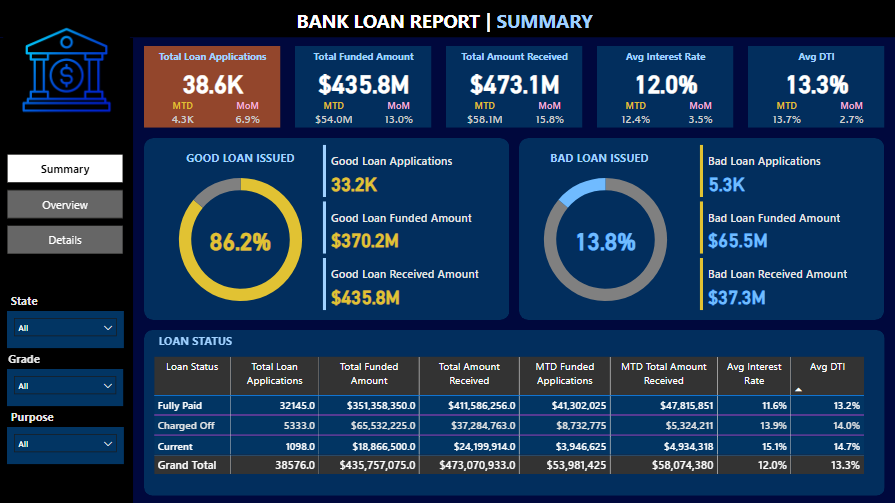

The page's visual inventory and layout, read from the dashboard file:
{"tool":"powerbi","page":{"name":"Summary","canvas":[1280,720],"ordinal":0},"visuals":[{"type":"shape","box":[206.7,66.7,195,116.7],"z":0,"group":"g1"},{"type":"shape","box":[422.5,66.7,195,116.7],"z":0,"group":"g2"},{"type":"shape","box":[638.3,66.7,195,116.7],"z":0,"group":"g3"},{"type":"shape","box":[854.2,66.7,195,116.7],"z":0,"group":"g4"},{"type":"shape","box":[1070,66.7,195,116.7],"z":0,"group":"g5"},{"type":"shape","box":[206.7,198.3,522,260],"z":0},{"type":"shape","box":[0,0,1280,55],"z":1000},{"type":"card","fields":{"Values":["bank_loan_data.Total Loan Applications"]},"box":[211.7,91.7,185,53.3],"z":1000,"group":"g1"},{"type":"card","fields":{"Values":["bank_loan_data.Total Funded Amount"]},"box":[427.5,91.7,185,53.3],"z":1000,"group":"g2"},{"type":"card","fields":{"Values":["bank_loan_data.Total Amount Received"]},"box":[643.3,91.7,185,53.3],"z":1000,"group":"g3"},{"type":"card","fields":{"Values":["bank_loan_data.Avg Interest Rate"]},"box":[859.2,91.7,185,53.3],"z":1000,"group":"g4"},{"type":"card","fields":{"Values":["bank_loan_data.Avg DTI"]},"box":[1075,91.7,185,53.3],"z":1000,"group":"g5"},{"type":"shape","box":[0,55,191.7,665],"z":2000},{"type":"textbox","box":[220,66.7,170,38.3],"z":2000,"group":"g1"},{"type":"textbox","box":[435.8,66.7,170,38.3],"z":2000,"group":"g2"},{"type":"textbox","box":[651.6,66.7,170,38.3],"z":2000,"group":"g3"},{"type":"textbox","box":[867.5,66.7,170,38.3],"z":2000,"group":"g4"},{"type":"textbox","box":[1083.3,66.7,170,38.3],"z":2000,"group":"g5"},{"type":"card","title":"MTD","fields":{"Values":["bank_loan_data.MTD Loan Applications"]},"box":[220,141.7,85,45],"z":3000,"group":"g1"},{"type":"card","title":"MTD","fields":{"Values":["bank_loan_data.MTD Funded Applications"]},"box":[435.8,141.7,85,45],"z":3000,"group":"g2"},{"type":"card","title":"MTD","fields":{"Values":["bank_loan_data.MTD Total Amount Received"]},"box":[651.6,141.7,85,45],"z":3000,"group":"g3"},{"type":"card","title":"MTD","fields":{"Values":["bank_loan_data.MTD Avg Interest Rate"]},"box":[867.5,141.7,85,45],"z":3000,"group":"g4"},{"type":"card","title":"MTD","fields":{"Values":["bank_loan_data.MTD Avg DTI"]},"box":[1083.3,141.7,85,45],"z":3000,"group":"g5"},{"type":"textbox","box":[220,211.7,250,38.3],"z":3000},{"type":"card","title":"MoM","fields":{"Values":["bank_loan_data.MoM Loan Applications"]},"box":[311.7,141.7,85,45],"z":4000,"group":"g1"},{"type":"card","title":"MoM","fields":{"Values":["bank_loan_data.MoM Total Funded Amount"]},"box":[527.5,141.7,85,45],"z":4000,"group":"g2"},{"type":"card","title":"MoM","fields":{"Values":["bank_loan_data.MoM Total Amount Received"]},"box":[743.3,141.7,85,45],"z":4000,"group":"g3"},{"type":"card","title":"MoM","fields":{"Values":["bank_loan_data.MoM Avg Interest Rate"]},"box":[959.2,141.7,85,45],"z":4000,"group":"g4"},{"type":"card","title":"MoM","fields":{"Values":["bank_loan_data.MoM Avg DTI"]},"box":[1175,141.7,85,45],"z":4000,"group":"g5"},{"type":"card","fields":{"Values":["bank_loan_data.Good Loan %"]},"box":[281.7,316.7,126.7,53.3],"z":4000},{"type":"textbox","box":[420,6.7,440,48.3],"z":5000},{"type":"group","id":"g1","title":"Group 1","box":[206.7,66.7,195,120],"z":6000},{"type":"group","id":"g2","title":"Group 1","box":[422.5,66.7,195,120],"z":7000},{"type":"group","id":"g3","title":"Group 1","box":[638.3,66.7,195,120],"z":8000},{"type":"group","id":"g4","title":"Group 1","box":[854.2,66.7,195,120],"z":9000},{"type":"donutChart","fields":{"Category":["bank_loan_data.Good vs Bad Loans"],"Y":["bank_loan_data.Total Loan Applications"]},"box":[220,228.3,250,230],"z":10000},{"type":"group","id":"g5","title":"Group 1","box":[1070,66.7,195,120],"z":11000},{"type":"shape","box":[743.3,198.3,521.7,260],"z":12000},{"type":"cardVisual","fields":{"Data":["bank_loan_data.Good Loan Applications","bank_loan_data.Good Loan Funded Amount","bank_loan_data.Good Loan Received Amount"]},"box":[456.7,203.3,258.3,248.3],"z":13000},{"type":"card","fields":{"Values":["bank_loan_data.Bad Loan %"]},"box":[803.3,316.7,126.7,53.3],"z":14000},{"type":"shape","box":[206.7,473.3,1058.3,236.7],"z":15000},{"type":"donutChart","fields":{"Category":["bank_loan_data.Good vs Bad Loans"],"Y":["bank_loan_data.Total Loan Applications"]},"box":[741.7,228.3,250,230],"z":16000},{"type":"textbox","box":[733.3,211.7,250,38.3],"z":17000},{"type":"cardVisual","fields":{"Data":["bank_loan_data.Bad Loan Applications","bank_loan_data.Bad Loan Funded Amount","bank_loan_data.Bad Loan Received Amount"]},"box":[995,203.3,258.3,248.3],"z":18000},{"type":"tableEx","fields":{"Values":["bank_loan_data.loan_status","bank_loan_data.Total Loan Applications","bank_loan_data.Total Funded Amount","bank_loan_data.Total Amount Received","bank_loan_data.MTD Funded Applications","bank_loan_data.MTD Total Amount Received","bank_loan_data.Avg Interest Rate","bank_loan_data.Avg DTI"]},"box":[215.7,505.7,1038.6,204.3],"z":19000},{"type":"textbox","box":[211.4,472.9,138.6,32.9],"z":20000},{"type":"slicer","fields":{"Values":["bank_loan_data.grade"]},"box":[11.6,529.2,166.3,53.5],"z":21000},{"type":"textbox","box":[0,415,71.7,31.7],"z":22000},{"type":"slicer","fields":{"Values":["bank_loan_data.purpose"]},"box":[11.7,611.7,166.7,53.3],"z":23000},{"type":"textbox","box":[0,498,71.7,31.7],"z":24000},{"type":"textbox","box":[11.7,581,71.7,31.7],"z":25000},{"type":"slicer","fields":{"Values":["bank_loan_data.address_state"]},"box":[11.7,445.7,166.7,53.3],"z":26000},{"type":"pageNavigator","box":[11.7,221.7,166.7,145],"z":27000},{"type":"image","box":[0,7.2,192.3,190.8],"z":28000}]}

Visuals, with their boxes in screenshot pixels (x1, y1, x2, y2), scaled from the page's 1280x720 canvas onto the 895x503 screenshot:
shape: region(145, 47, 281, 128)
shape: region(295, 47, 432, 128)
shape: region(446, 47, 583, 128)
shape: region(597, 47, 734, 128)
shape: region(748, 47, 885, 128)
shape: region(145, 139, 510, 320)
shape: region(0, 0, 894, 38)
card - bank_loan_data.Total Loan Applications: region(148, 64, 277, 101)
card - bank_loan_data.Total Funded Amount: region(299, 64, 428, 101)
card - bank_loan_data.Total Amount Received: region(450, 64, 579, 101)
card - bank_loan_data.Avg Interest Rate: region(601, 64, 730, 101)
card - bank_loan_data.Avg DTI: region(752, 64, 881, 101)
shape: region(0, 38, 134, 502)
textbox: region(154, 47, 273, 73)
textbox: region(305, 47, 424, 73)
textbox: region(456, 47, 574, 73)
textbox: region(607, 47, 725, 73)
textbox: region(757, 47, 876, 73)
"MTD" card: region(154, 99, 213, 130)
"MTD" card: region(305, 99, 364, 130)
"MTD" card: region(456, 99, 515, 130)
"MTD" card: region(607, 99, 666, 130)
"MTD" card: region(757, 99, 817, 130)
textbox: region(154, 148, 329, 175)
"MoM" card: region(218, 99, 277, 130)
"MoM" card: region(369, 99, 428, 130)
"MoM" card: region(520, 99, 579, 130)
"MoM" card: region(671, 99, 730, 130)
"MoM" card: region(822, 99, 881, 130)
card - bank_loan_data.Good Loan %: region(197, 221, 286, 258)
textbox: region(294, 5, 601, 38)
"Group 1" group: region(145, 47, 281, 130)
"Group 1" group: region(295, 47, 432, 130)
"Group 1" group: region(446, 47, 583, 130)
"Group 1" group: region(597, 47, 734, 130)
donutChart - bank_loan_data.Good vs Bad Loans x bank_loan_data.Total Loan Applications: region(154, 159, 329, 320)
"Group 1" group: region(748, 47, 885, 130)
shape: region(520, 139, 885, 320)
cardVisual - bank_loan_data.Good Loan Applications x bank_loan_data.Good Loan Funded Amount: region(319, 142, 500, 315)
card - bank_loan_data.Bad Loan %: region(562, 221, 650, 258)
shape: region(145, 331, 885, 496)
donutChart - bank_loan_data.Good vs Bad Loans x bank_loan_data.Total Loan Applications: region(519, 159, 693, 320)
textbox: region(513, 148, 688, 175)
cardVisual - bank_loan_data.Bad Loan Applications x bank_loan_data.Bad Loan Funded Amount: region(696, 142, 876, 315)
tableEx - bank_loan_data.loan_status x bank_loan_data.Total Loan Applications: region(151, 353, 877, 496)
textbox: region(148, 330, 245, 353)
slicer - bank_loan_data.grade: region(8, 370, 124, 407)
textbox: region(0, 290, 50, 312)
slicer - bank_loan_data.purpose: region(8, 427, 125, 465)
textbox: region(0, 348, 50, 370)
textbox: region(8, 406, 58, 428)
slicer - bank_loan_data.address_state: region(8, 311, 125, 349)
pageNavigator: region(8, 155, 125, 256)
image: region(0, 5, 134, 138)
